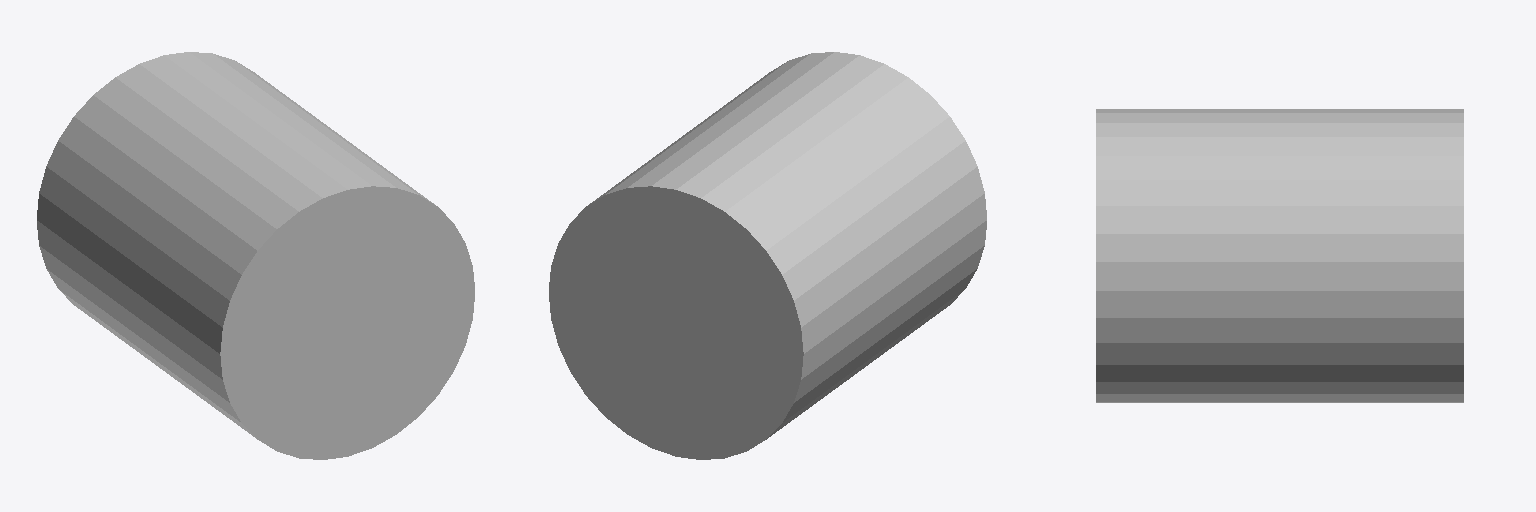
The model's file is testcyl.obj.
3 renders of one model, left to right at view 1: azimuth 30°, elevation 25°; view 2: azimuth 150°, elevation 25°; view 3: azimuth 270°, elevation 25°, orthographic.
Parts seen in each view (by area): view 1: Cylinder; view 2: Cylinder; view 3: Cylinder.
Boxes of the visible parts, box(x1,y1,x2,y2) form: Cylinder: box(37, 52, 474, 459); Cylinder: box(549, 52, 986, 459); Cylinder: box(1096, 109, 1463, 402).
Bounding box in the file's own units: 2 × 2 × 2.5.